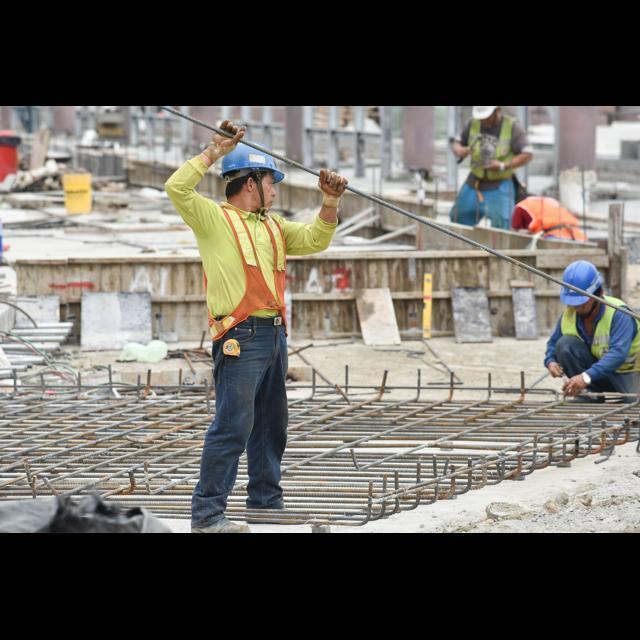Capacete: (220, 143, 284, 182), (563, 260, 602, 293), (472, 106, 497, 119)
Colete: (208, 205, 286, 340), (517, 197, 586, 241), (468, 115, 514, 179), (617, 320, 639, 372)
